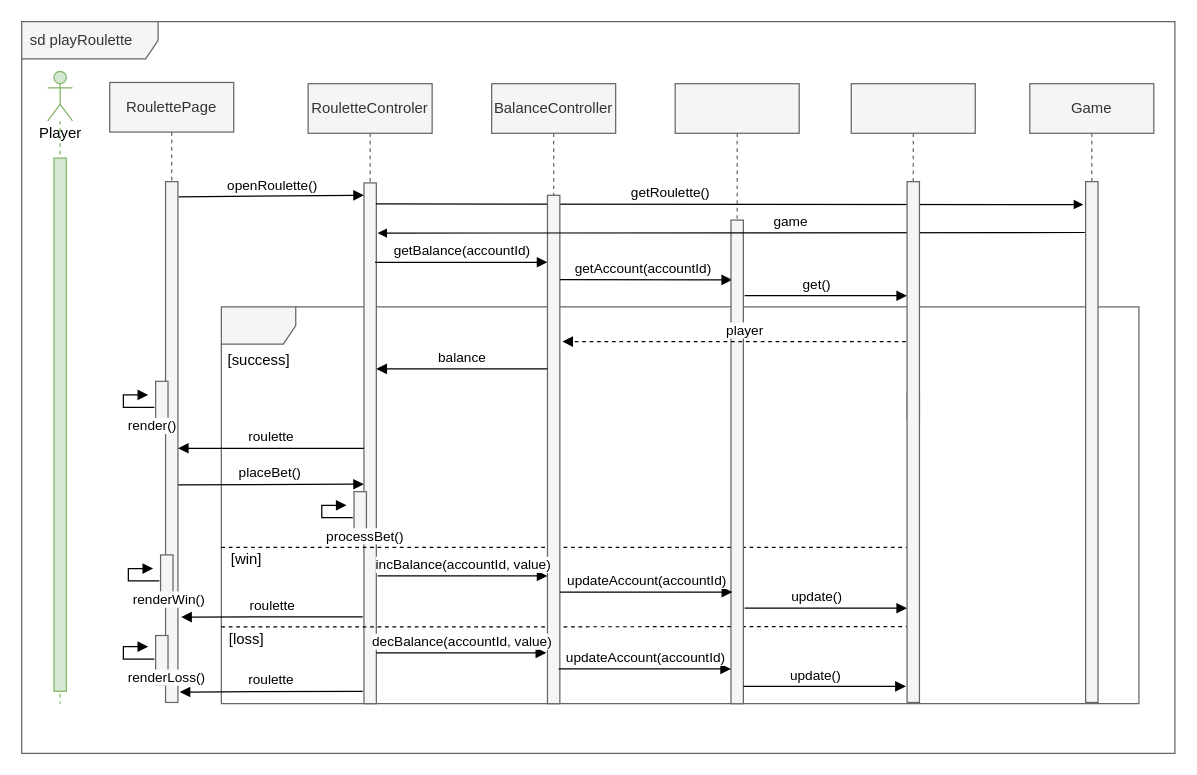
Some shapes in this 1197 by 775 pixel diagram are drawn without their labels. Here are the shapes that lost their labels. From the top down, the box of each, then its label:
(674, 82, 799, 704): AccountService
(850, 82, 975, 704): Account
(220, 306, 1139, 704): alt
